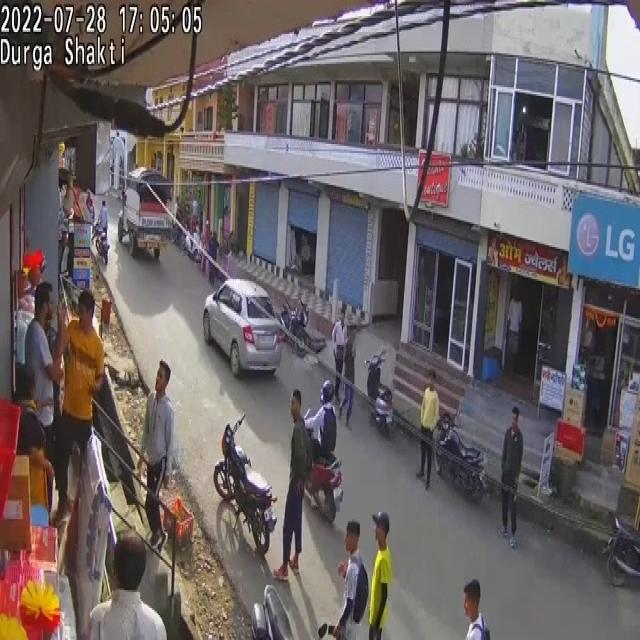fight: (57, 290, 104, 516), (24, 286, 67, 523)
non-fight: (275, 389, 310, 579), (140, 361, 175, 550), (330, 518, 368, 640), (499, 406, 524, 546), (367, 512, 392, 640), (304, 381, 337, 461), (419, 369, 440, 490), (339, 326, 357, 423), (332, 315, 346, 404), (208, 230, 220, 282), (187, 194, 204, 222), (98, 202, 108, 240)
